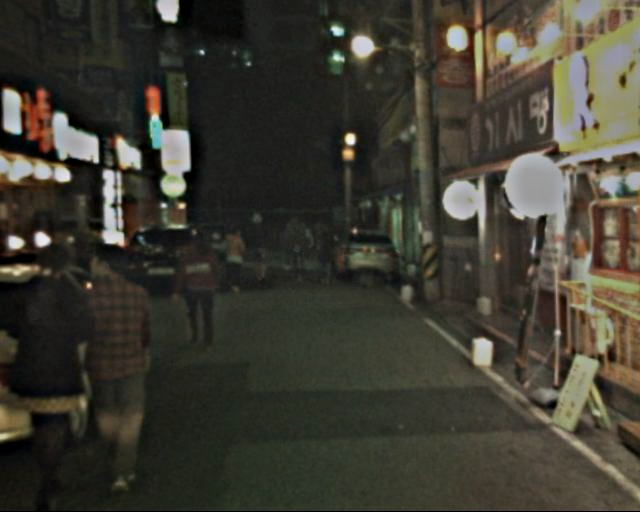person: (67, 249, 161, 469), (179, 226, 225, 336), (222, 223, 254, 294), (285, 215, 312, 282), (249, 219, 274, 281), (313, 225, 336, 282)
